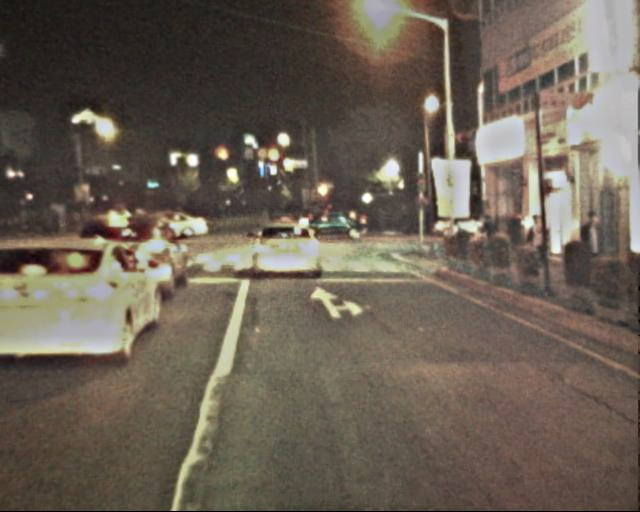person: (581, 210, 605, 282), (33, 204, 85, 234), (525, 212, 550, 272), (260, 209, 303, 230)
